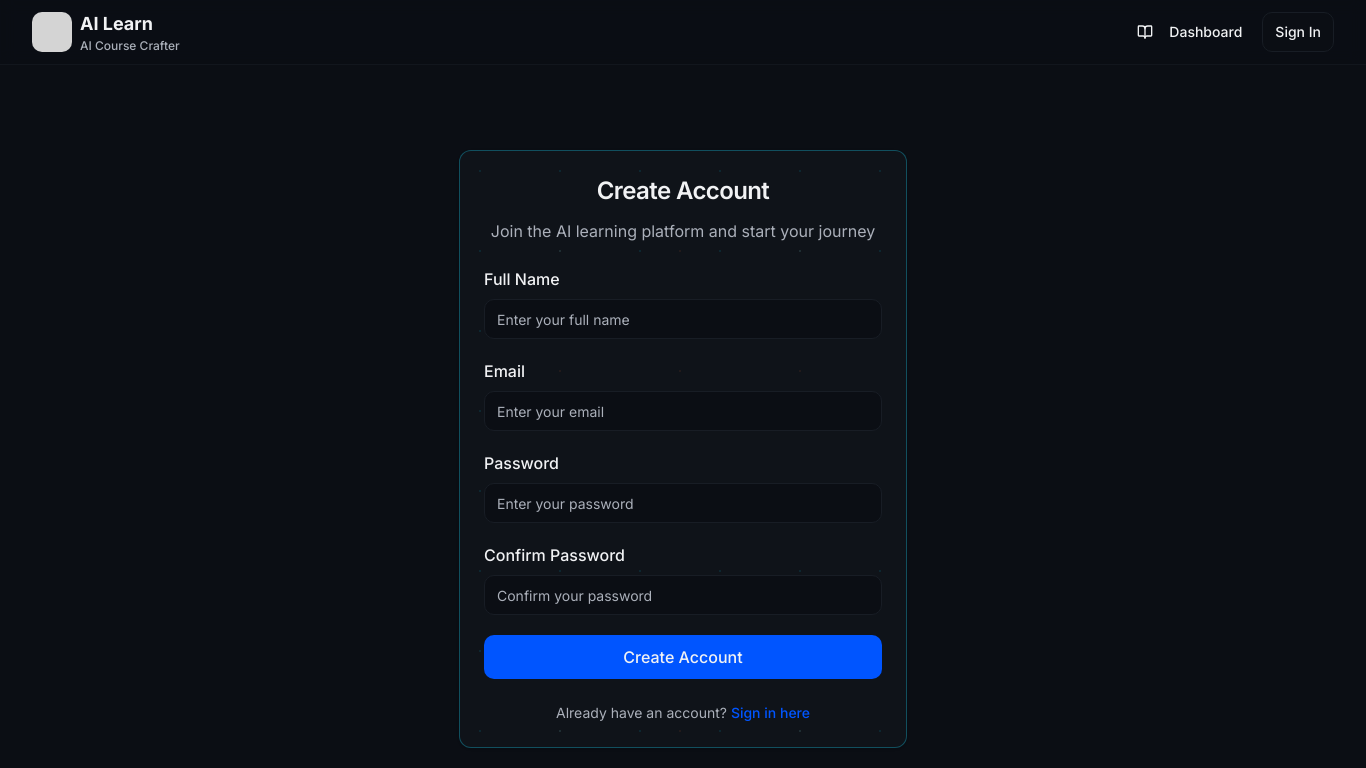
it: Auth flows - login & signup › signup: shows errors for password mismatch and weak password
Type "Test User" into the field labelled "Full Name" at (683,319), box [484,299,882,339]
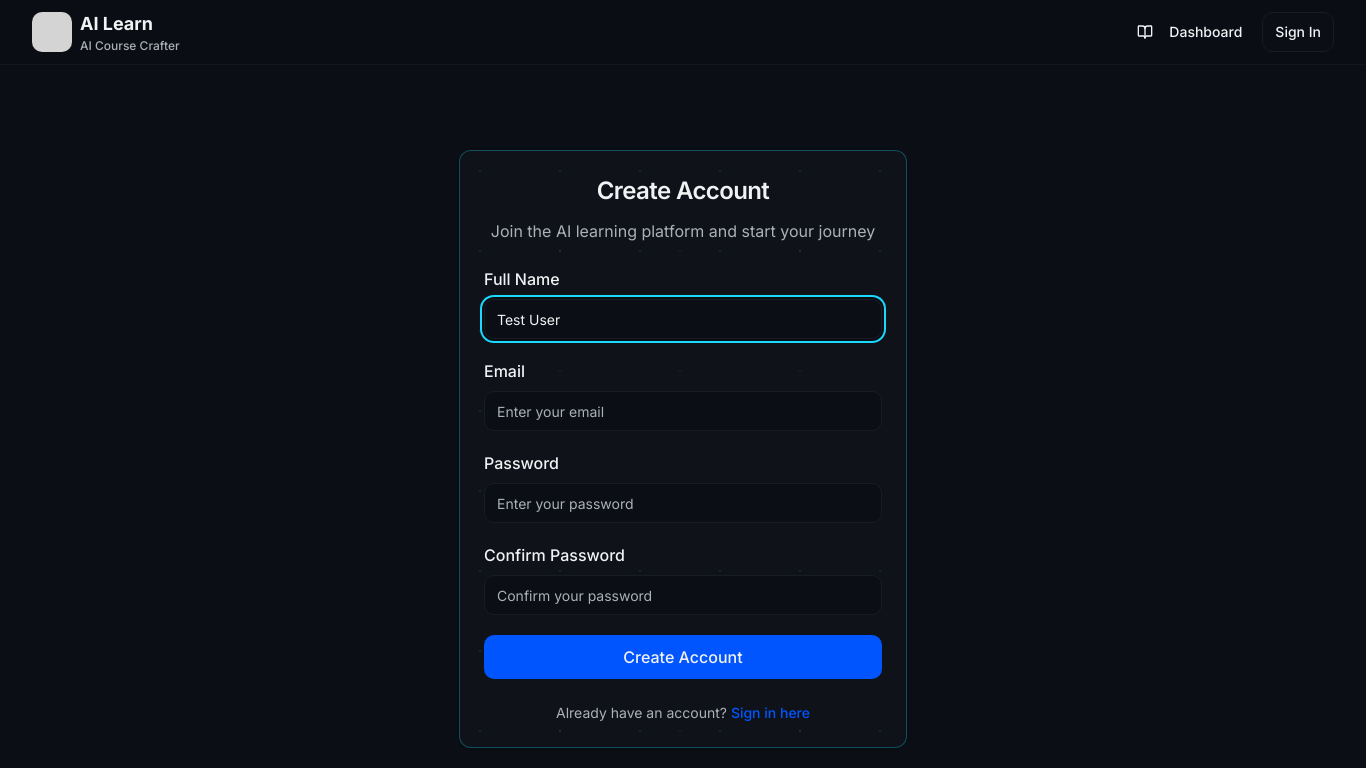
Type "test@example.com" into the field labelled "Email" at (683,411), box [484,391,882,431]
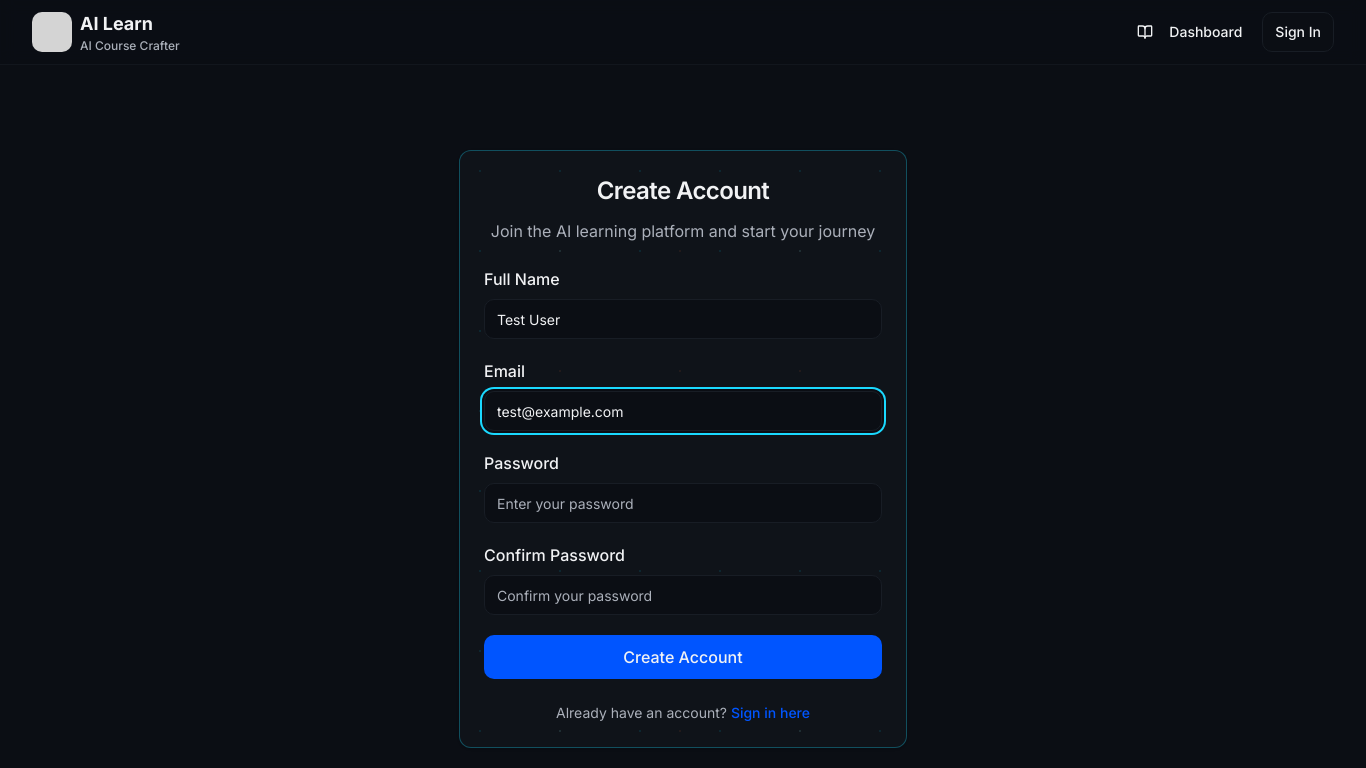
Type "123" into the password field labelled "Password" at (683,503), box [484,483,882,523]
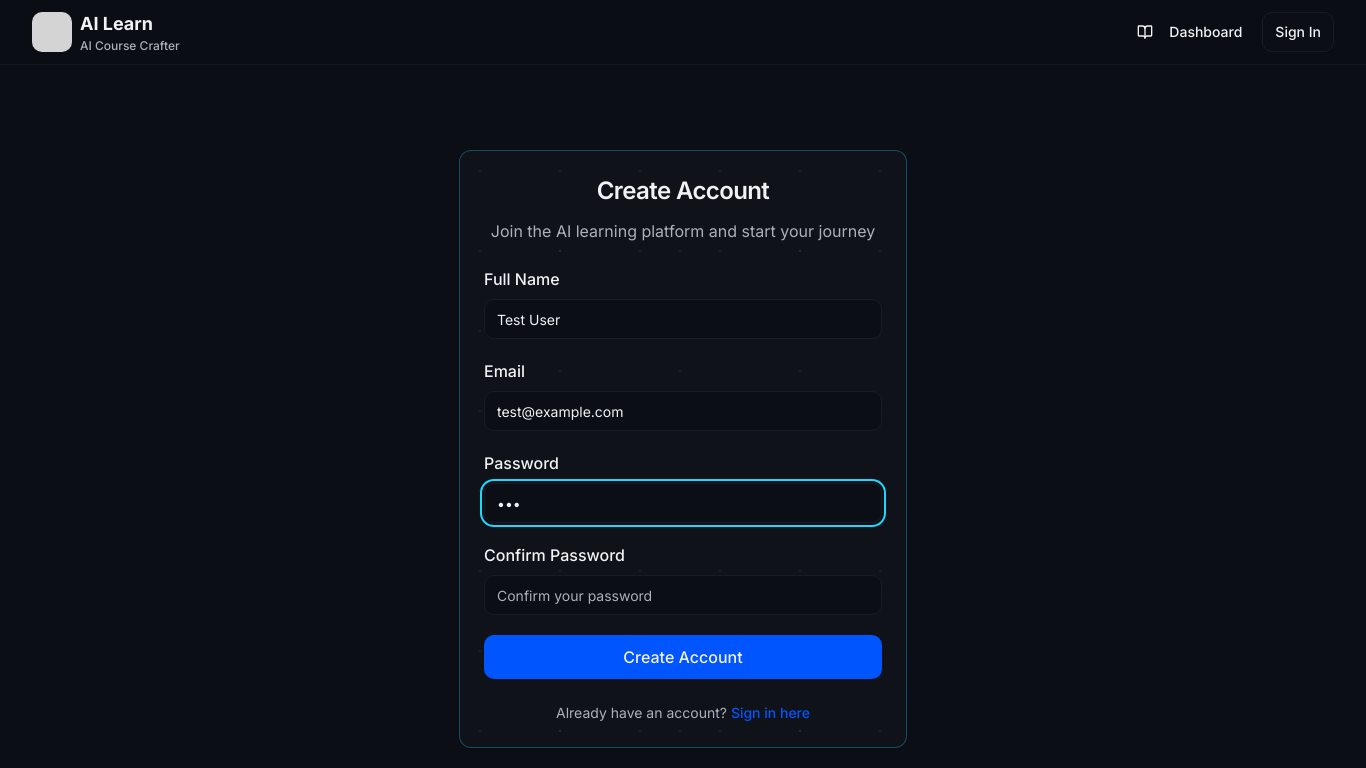
Type "456" into the password field labelled "Confirm Password" at (683,595), box [484,575,882,615]
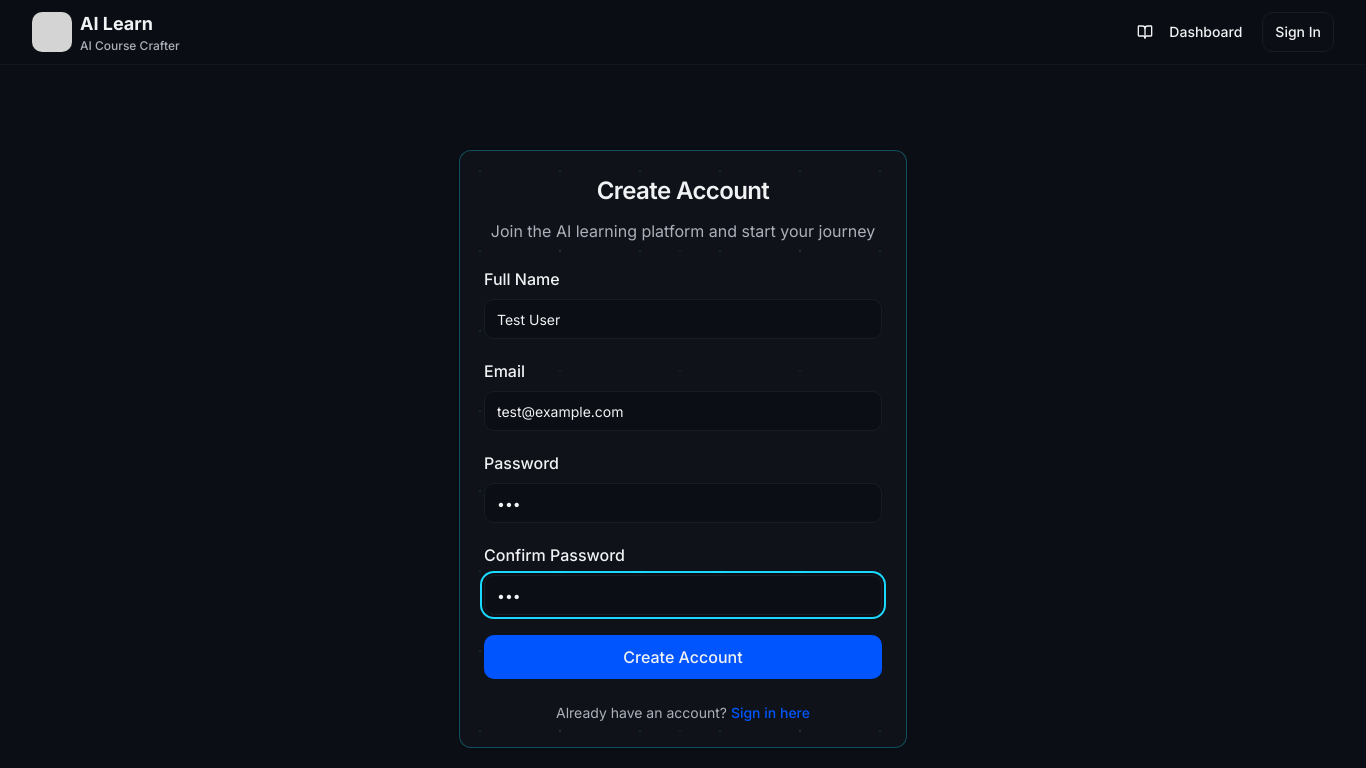
Click the button "Create Account" at (683,657), box [484,635,882,679]
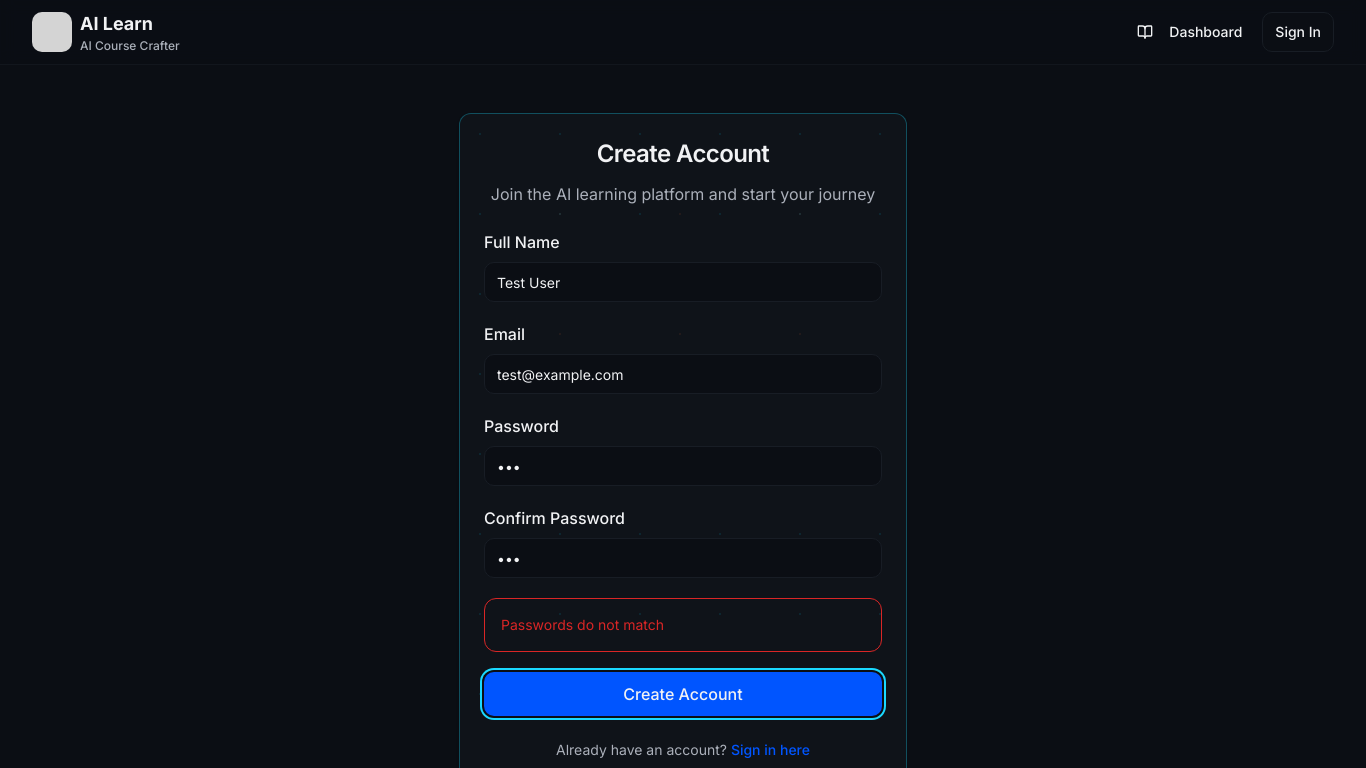
expect the message "Passwords do not match" is shown: met, box [484,598,882,652]
